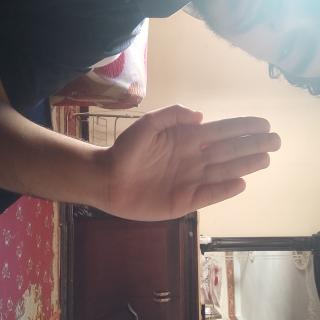SEEN: (76, 47, 170, 294)
